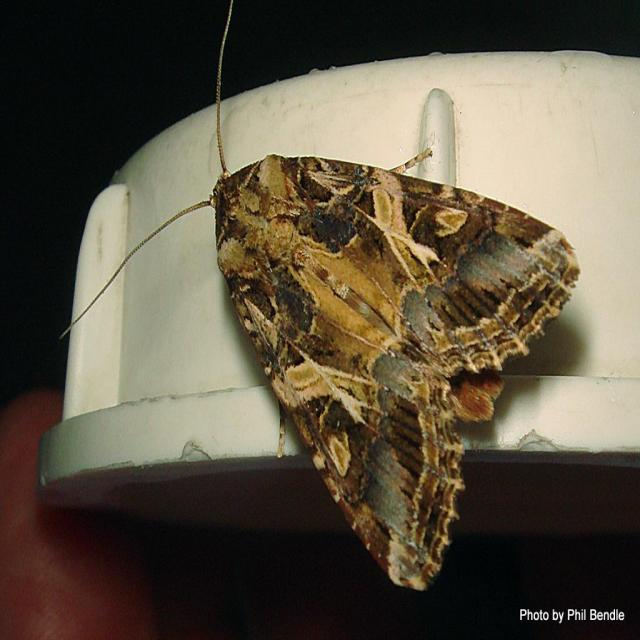armyworm: (160, 106, 611, 603)
